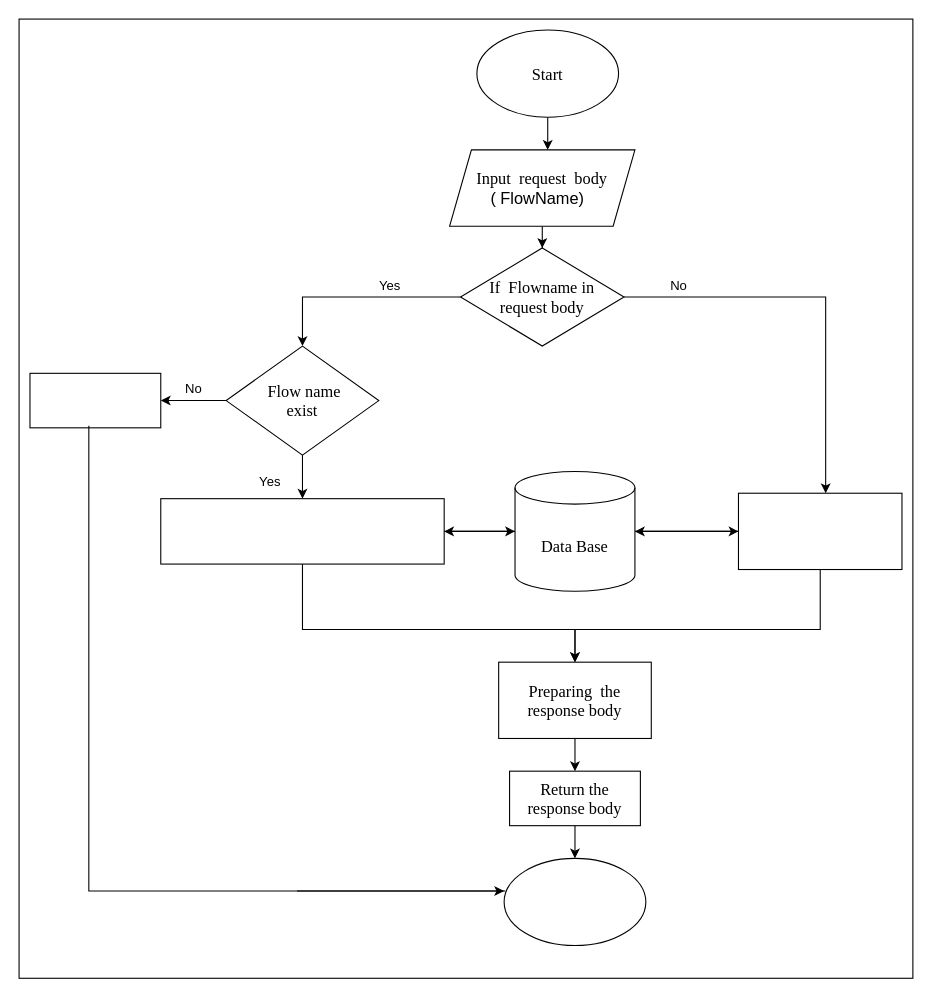
The diagram is 932 pixels wide and 997 high, and some of its shapes have lost their labels. Here are the shapes that lost their labels. From the top down, the centre of each, then its label:
the point at 95,400: Return
the point at 302,531: Fetch Requests from Database based on Flow name
the point at 819,531: Fetch the All Flow data
the point at 574,901: End
